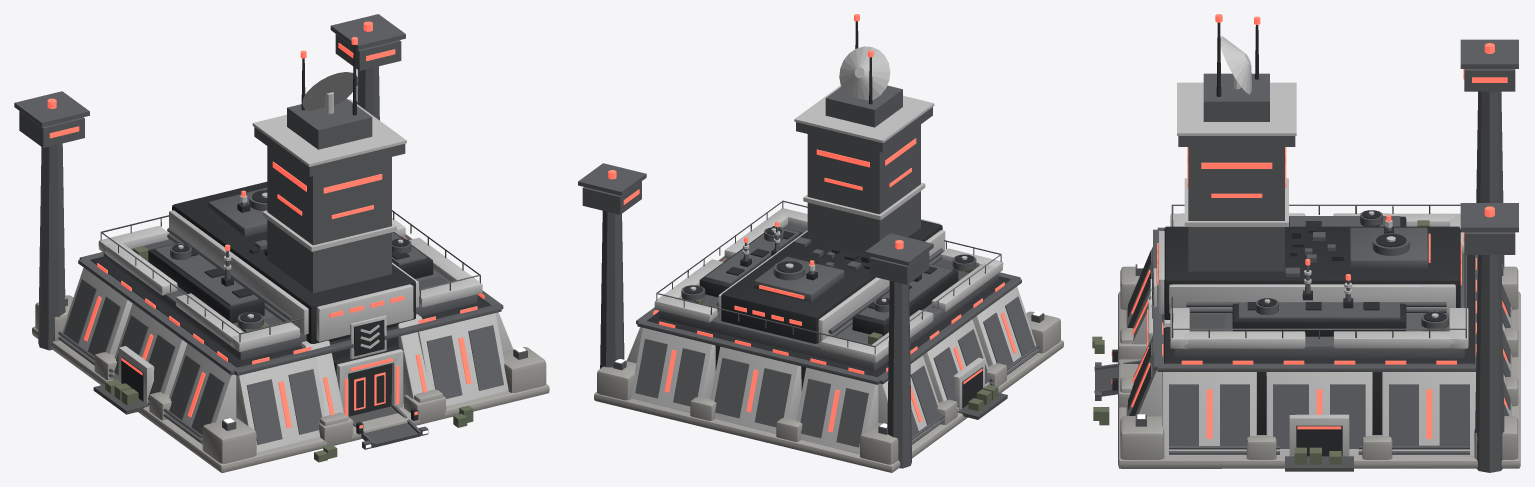
File: sb_caserne_t2.glb
3 renders of one model, left to right at view 1: azimuth 30°, elevation 25°; view 2: azimuth 150°, elevation 25°; view 3: azimuth 270°, elevation 25°, orthographic. The views are drawn at different scales.
Visible parts, largest first — view 1: SM_CB_BODY, SM_CB2_TOWER, SM_CB2_WATCHTOWERS, SM_CB2_TOWER_TRIM, SM_CB_LIGHTS, SM_CB2_RADAR, SM_CB2_TOWER_SLITS, SM_CB2_WATCHTOWER_LIGHTS; view 2: SM_CB_BODY, SM_CB2_TOWER, SM_CB2_WATCHTOWERS, SM_CB2_TOWER_TRIM, SM_CB_LIGHTS, SM_CB2_RADAR, SM_CB2_TOWER_SLITS; view 3: SM_CB_BODY, SM_CB2_TOWER, SM_CB2_WATCHTOWERS, SM_CB2_TOWER_TRIM, SM_CB_LIGHTS, SM_CB2_RADAR, SM_CB2_TOWER_SLITS, SM_CB2_MASTS, SM_CB2_WATCHTOWER_LIGHTS.
Boxes of the visible parts, x1,y1,x2,y2 form: SM_CB_BODY: [32, 181, 549, 472]; SM_CB2_TOWER: [254, 98, 405, 293]; SM_CB2_WATCHTOWERS: [14, 14, 405, 350]; SM_CB2_TOWER_TRIM: [252, 99, 406, 251]; SM_CB_LIGHTS: [65, 190, 525, 448]; SM_CB2_RADAR: [302, 72, 358, 113]; SM_CB2_TOWER_SLITS: [272, 161, 382, 219]; SM_CB2_WATCHTOWER_LIGHTS: [47, 21, 395, 138]; SM_CB_BODY: [594, 200, 1063, 472]; SM_CB2_TOWER: [796, 85, 932, 254]; SM_CB2_WATCHTOWERS: [578, 163, 933, 468]; SM_CB2_TOWER_TRIM: [794, 85, 934, 220]; SM_CB_LIGHTS: [615, 221, 1042, 432]; SM_CB2_RADAR: [839, 46, 890, 100]; SM_CB2_TOWER_SLITS: [816, 138, 916, 190]; SM_CB_BODY: [1092, 204, 1520, 471]; SM_CB2_TOWER: [1178, 73, 1295, 271]; SM_CB2_WATCHTOWERS: [1460, 39, 1518, 472]; SM_CB2_TOWER_TRIM: [1177, 82, 1296, 226]; SM_CB_LIGHTS: [1093, 215, 1507, 438]; SM_CB2_RADAR: [1220, 36, 1251, 94]; SM_CB2_TOWER_SLITS: [1187, 147, 1286, 197]; SM_CB2_MASTS: [1216, 22, 1259, 96]; SM_CB2_WATCHTOWER_LIGHTS: [1463, 43, 1507, 242].
Bounding box in the file's own units: 35 × 32.81 × 33.7.
